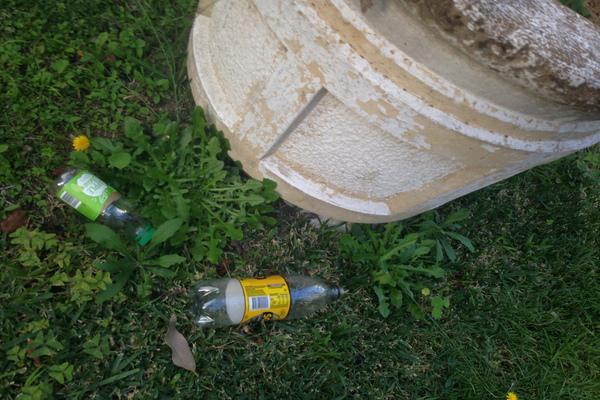Plastic Bottle: (52, 165, 158, 246), (194, 273, 345, 321)
